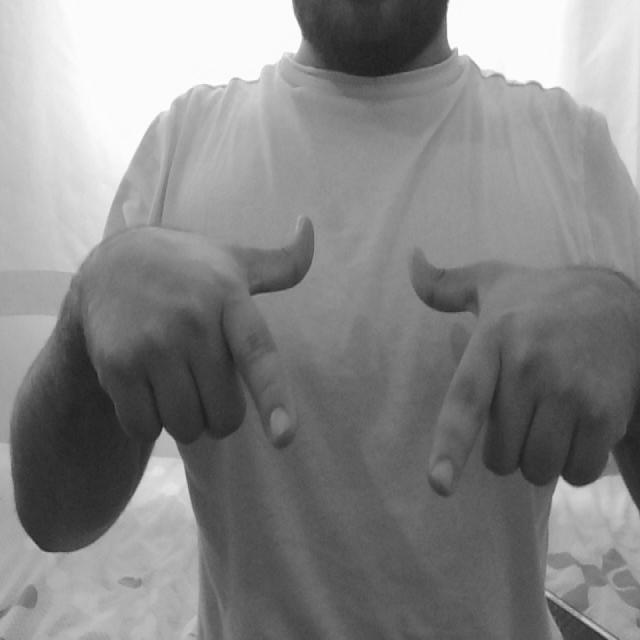Nerede: (214, 209, 522, 504)
